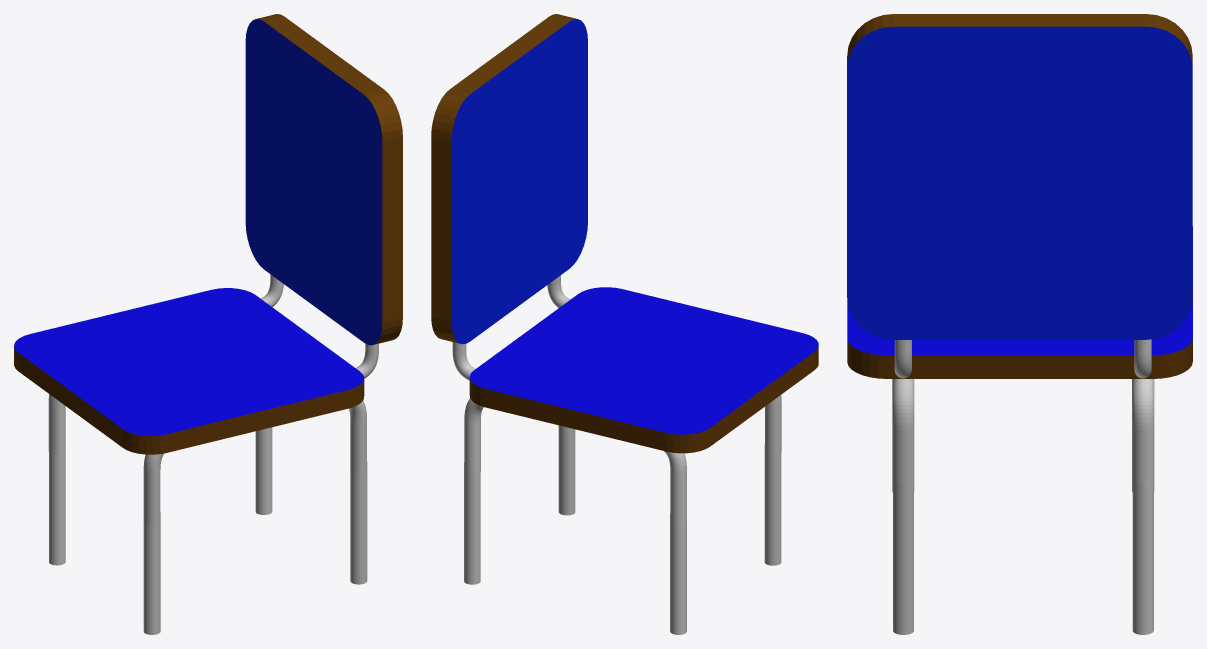
File: Silla (1).fbx
3 renders of one model, left to right at view 1: azimuth 30°, elevation 25°; view 2: azimuth 150°, elevation 25°; view 3: azimuth 270°, elevation 25°, orthographic. The views are drawn at different scales.
Visible parts, largest first — view 1: Cube.008, Cube.007, Cylinder.002, Cylinder.003; view 2: Cube.008, Cube.007, Cylinder.003, Cylinder.002; view 3: Cube.008, Cube.007, Cylinder.003, Cylinder.002.
Boxes of the visible parts, <box> form: Cube.008: <box>245,14,402,345</box>; Cube.007: <box>14,288,364,454</box>; Cylinder.002: <box>143,343,378,634</box>; Cylinder.003: <box>48,274,283,565</box>; Cube.008: <box>431,14,587,344</box>; Cube.007: <box>469,287,818,453</box>; Cylinder.003: <box>452,342,686,634</box>; Cylinder.002: <box>547,275,781,565</box>; Cube.008: <box>847,14,1192,339</box>; Cube.007: <box>847,226,1192,378</box>; Cylinder.003: <box>1132,339,1154,634</box>; Cylinder.002: <box>892,340,914,634</box>.
Bounding box in the file's own units: 223 × 394 × 200.
